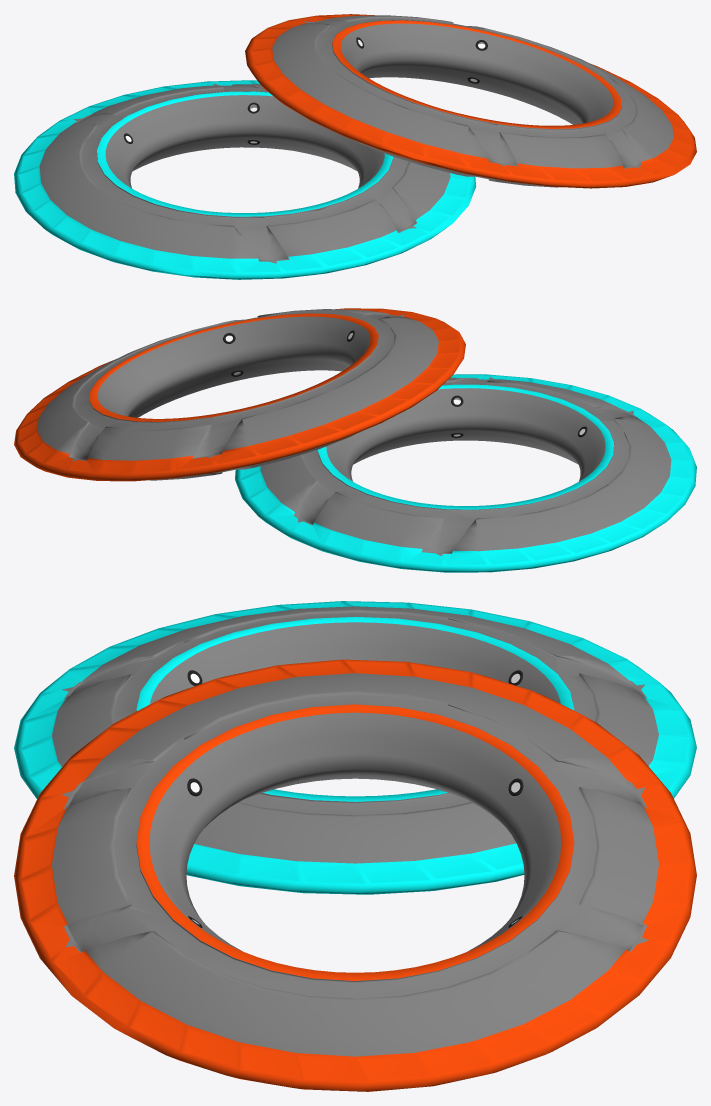
The model's file is tron.obj.
3 views of the same model, one above another, from view 1: azimuth 30°, elevation 25°; view 2: azimuth 150°, elevation 25°; view 3: azimuth 270°, elevation 25° (orthographic). The views are drawn at different scales.
Parts seen in each view (by area): view 1: polySurface1, polySurface18; view 2: polySurface1, polySurface18; view 3: polySurface18, polySurface1.
Boxes of the visible parts, <box> form: polySurface1: <box>14,80,476,279</box>; polySurface18: <box>245,14,696,188</box>; polySurface1: <box>235,374,696,572</box>; polySurface18: <box>14,308,465,481</box>; polySurface18: <box>14,659,696,1091</box>; polySurface1: <box>14,601,696,894</box>.
Bounding box in the file's own units: 40.36 × 7.4 × 26.07.
